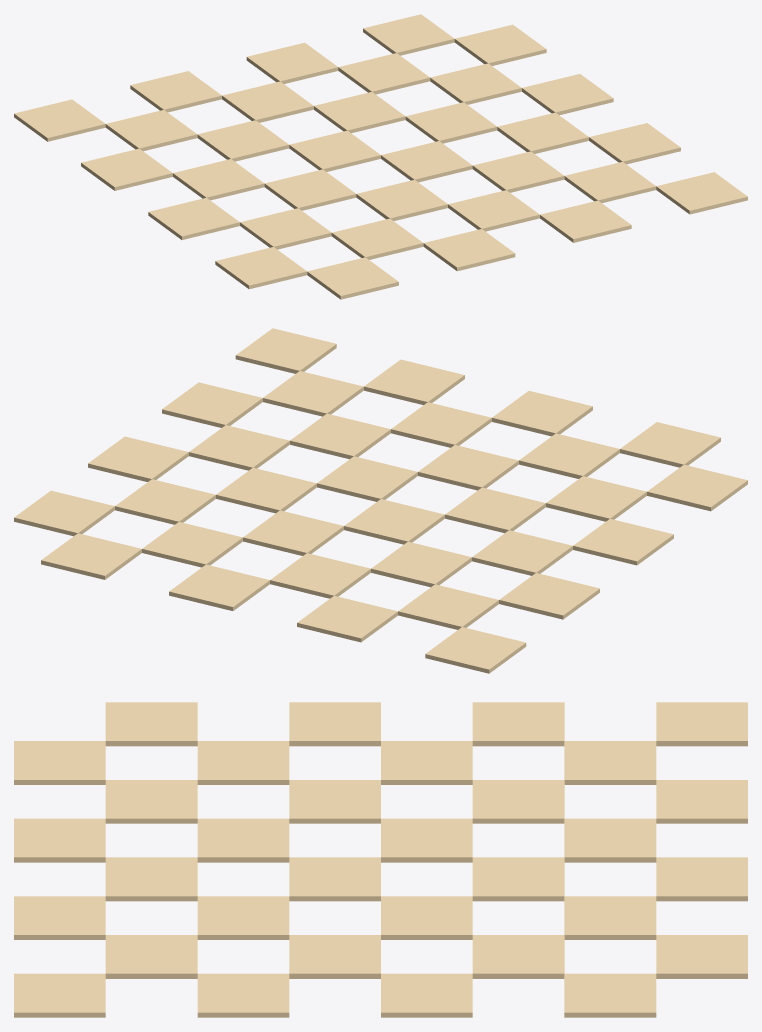
File: LightTiles.glb
3 renders of one model, top to bottom at view 1: azimuth 30°, elevation 25°; view 2: azimuth 150°, elevation 25°; view 3: azimuth 270°, elevation 25°, orthographic. The views are drawn at different scales.
Visible parts, largest first — view 1: LightTiles; view 2: LightTiles; view 3: LightTiles.
Boxes of the visible parts, bbox=[...] form: LightTiles: bbox=[14, 14, 747, 299]; LightTiles: bbox=[14, 328, 747, 673]; LightTiles: bbox=[14, 702, 747, 1017].
Bounding box in the file's own units: 13 × 0.1 × 13.
